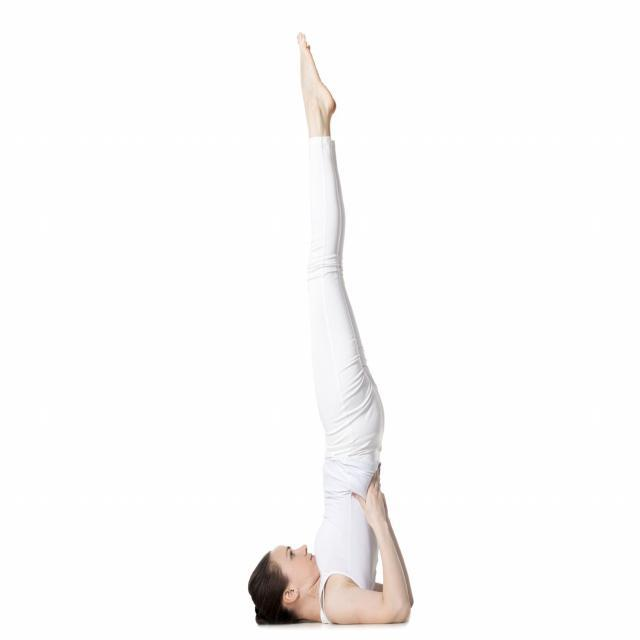yoga-pose shoulderstand: (250, 30, 413, 633)
